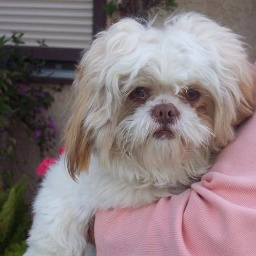dog: (18, 8, 256, 256)
